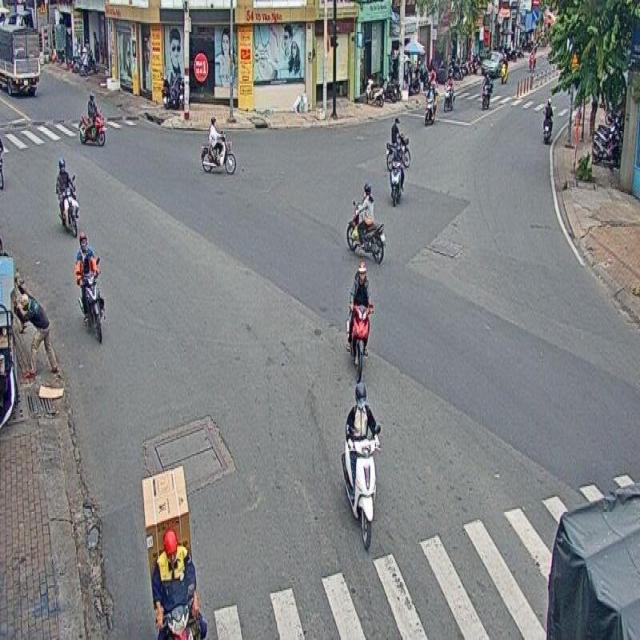motorcycle: (140, 458, 209, 640), (340, 380, 380, 548), (75, 228, 106, 344), (345, 264, 373, 379), (346, 181, 385, 262), (198, 114, 236, 174), (56, 156, 78, 233), (79, 90, 105, 148), (389, 138, 406, 206)
